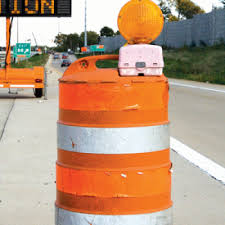barrel: (59, 60, 171, 225)
